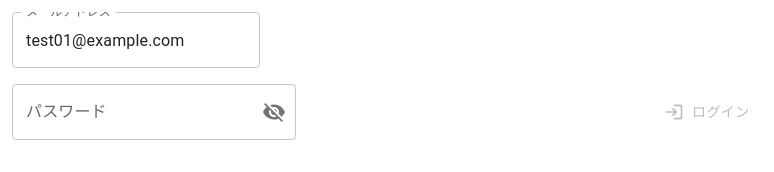
Scenario: SignInWithPasswordPanel › shows button sign-in for valid email and password.
Type "t" into the password field labelled "パスワード" at (129, 112), box x1=12 y1=84 x2=246 y2=140
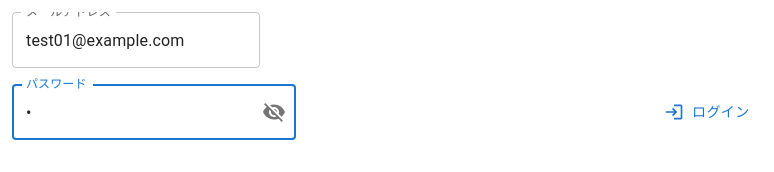
expect the button with aria-label "sign-in" is enabled: met
Click the button with aria-label "sign-in" at (709, 112), box x1=660 y1=94 x2=758 y2=130
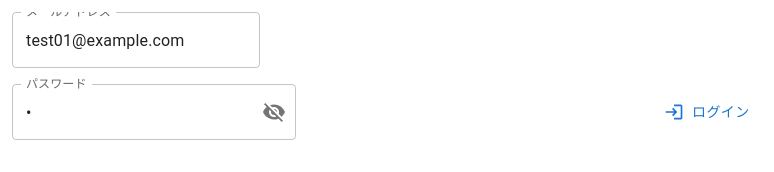
Type "a" into the field labelled "メールアドレス" at (136, 40), box x1=12 y1=12 x2=260 y2=68
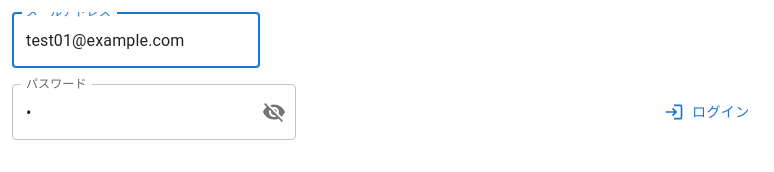
Click the button with test id "VisibilityOffIcon" at (274, 112), box x1=254 y1=92 x2=294 y2=132
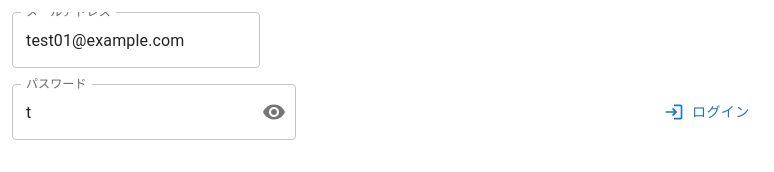
expect the icon with test id "VisibilityOffIcon" is gone: met
expect the icon with test id "VisibilityIcon" is shown: met, box x1=262 y1=100 x2=286 y2=124
